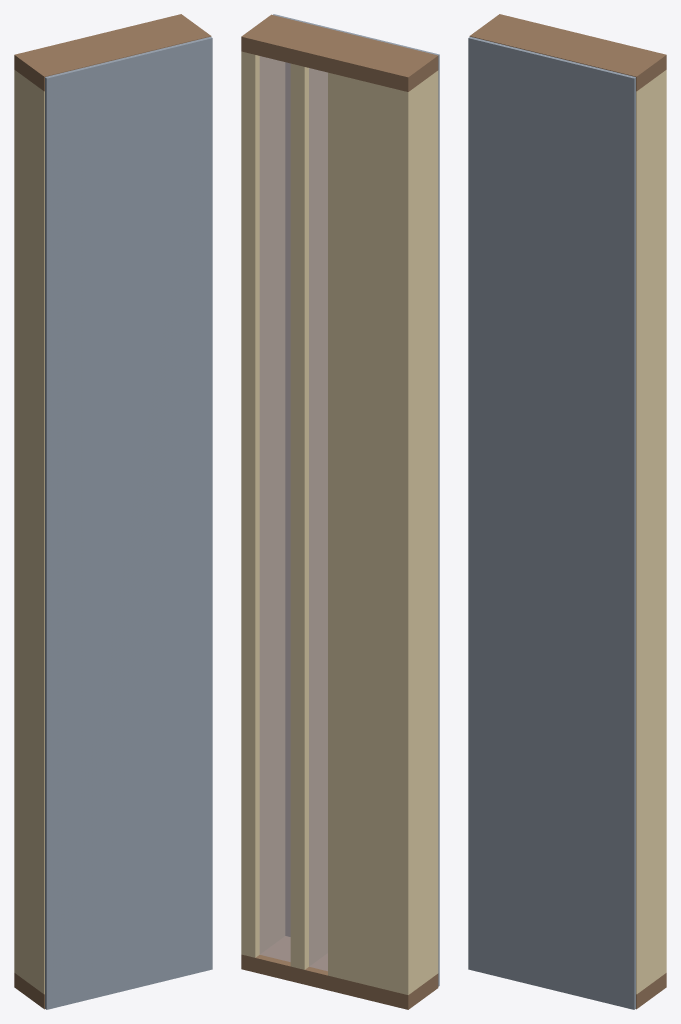
3 renders of one model, left to right at view 1: azimuth 30°, elevation 25°; view 2: azimuth 150°, elevation 25°; view 3: azimuth 330°, elevation 25°, orthographic.
Parts seen in each view (by area): view 1: EX8 FF; view 2: EX8 FF; view 3: EX8 FF.
Boxes of the visible parts, x1,y1,x2,y2 form: EX8 FF: (14,14,212,1009); EX8 FF: (241,14,439,1009); EX8 FF: (468,14,666,1009).
Size of the model in its own units: 0.45 by 2.4 by 0.149.
